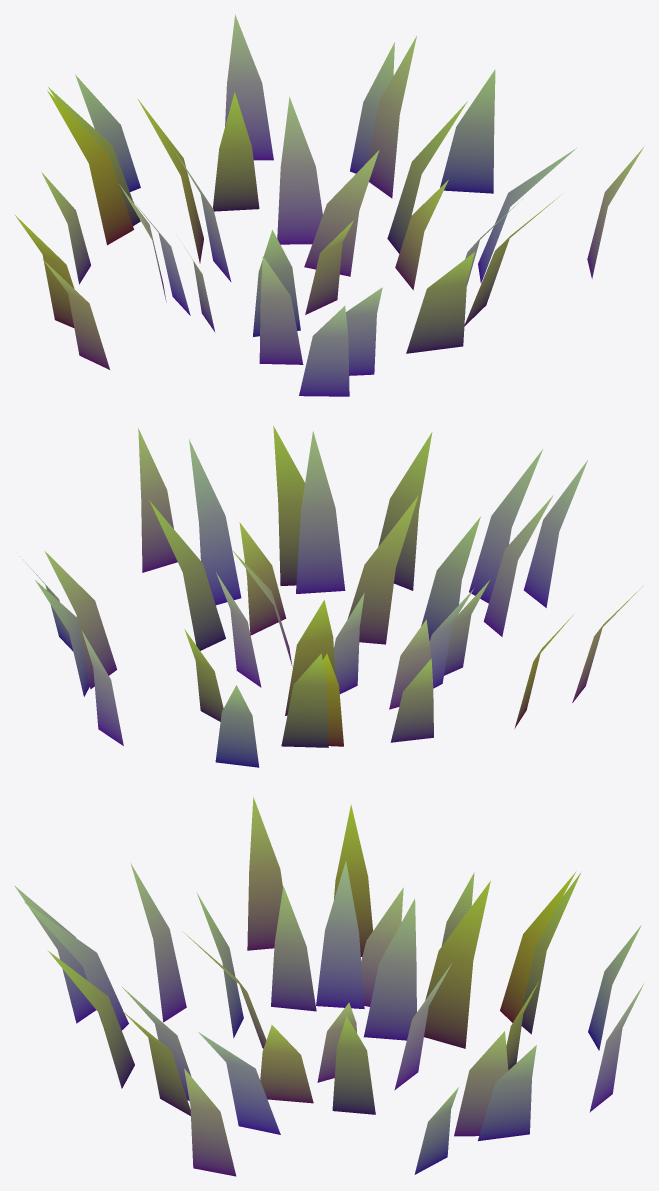
Rendered from grass_short.glb.
3 renders of one model, top to bottom at view 1: azimuth 30°, elevation 25°; view 2: azimuth 150°, elevation 25°; view 3: azimuth 270°, elevation 25°, orthographic. The views are drawn at different scales.
Parts seen in each view (by area): view 1: grass_short; view 2: grass_short; view 3: grass_short.
Boxes of the visible parts, x1,y1,x2,y2 form: grass_short: (14, 14, 643, 396); grass_short: (20, 426, 643, 767); grass_short: (14, 797, 643, 1176).
Bounding box in the file's own units: 0.5367 × 0.1313 × 0.5262.
